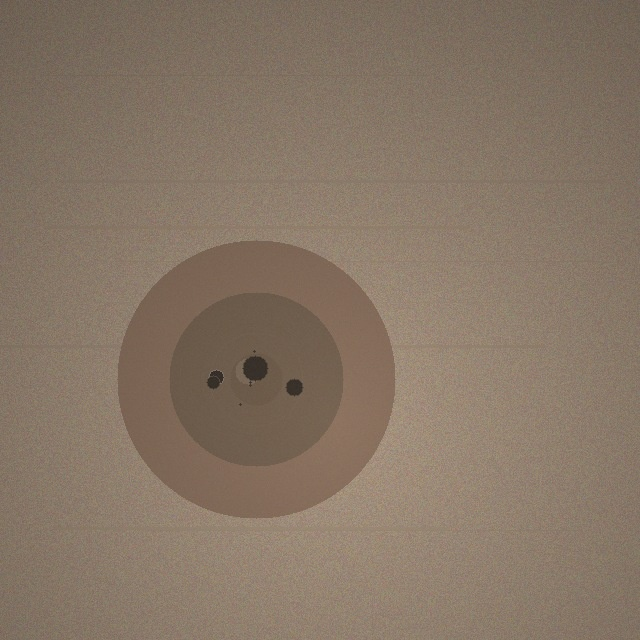shrinkage: (117, 240, 395, 518)
